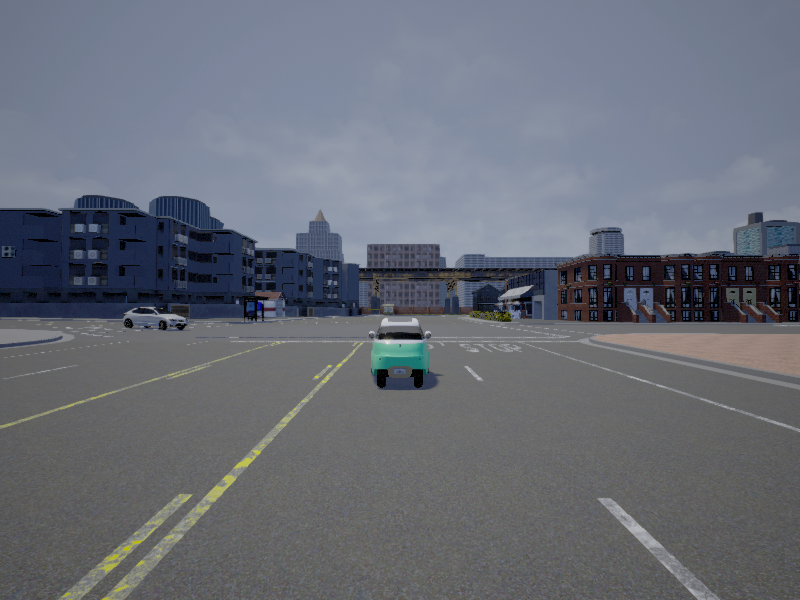Benign: (369, 316, 432, 389), (124, 306, 188, 332)
